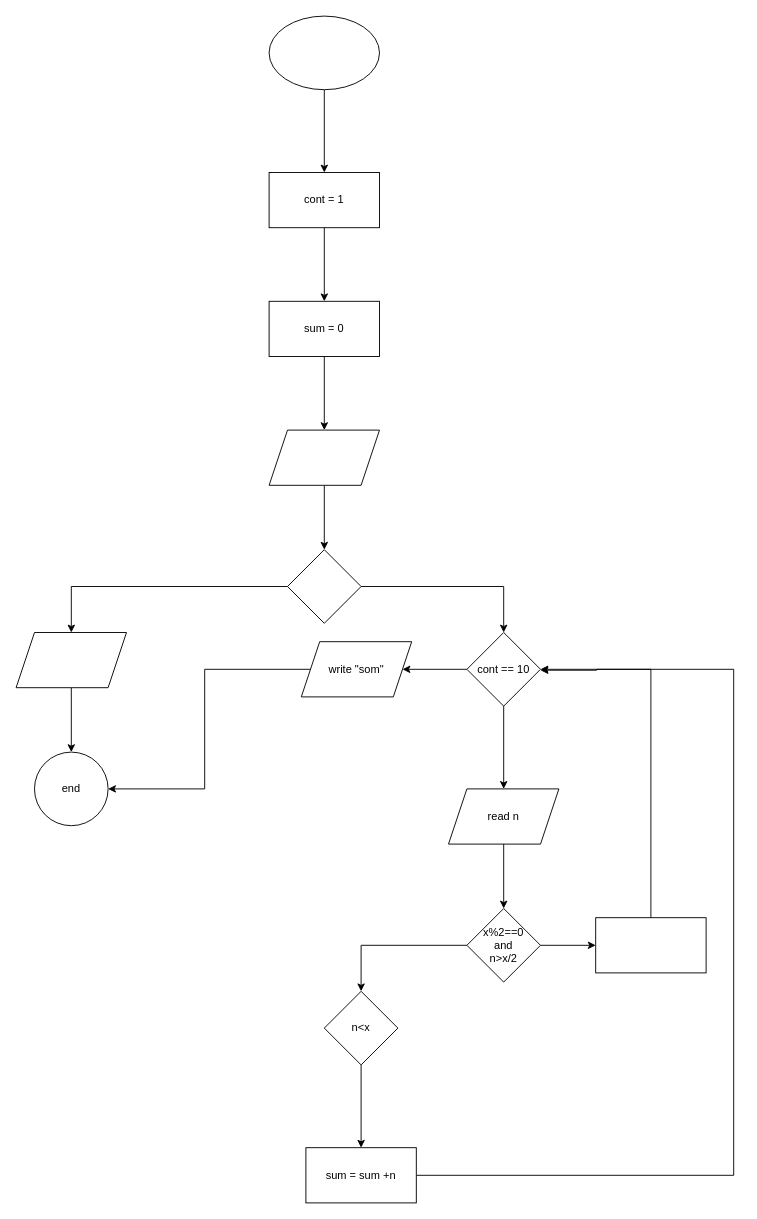
This 757x1219 diagram has some shape labels left out. The shapes that lost their labels are listed below. From the top down, each one's centre as x and y in pixels, then its label:
(324,52): start
(324,457): read x
(324,586): x > 0
(70,660): write "error"
(650,945): sum = sum+n
